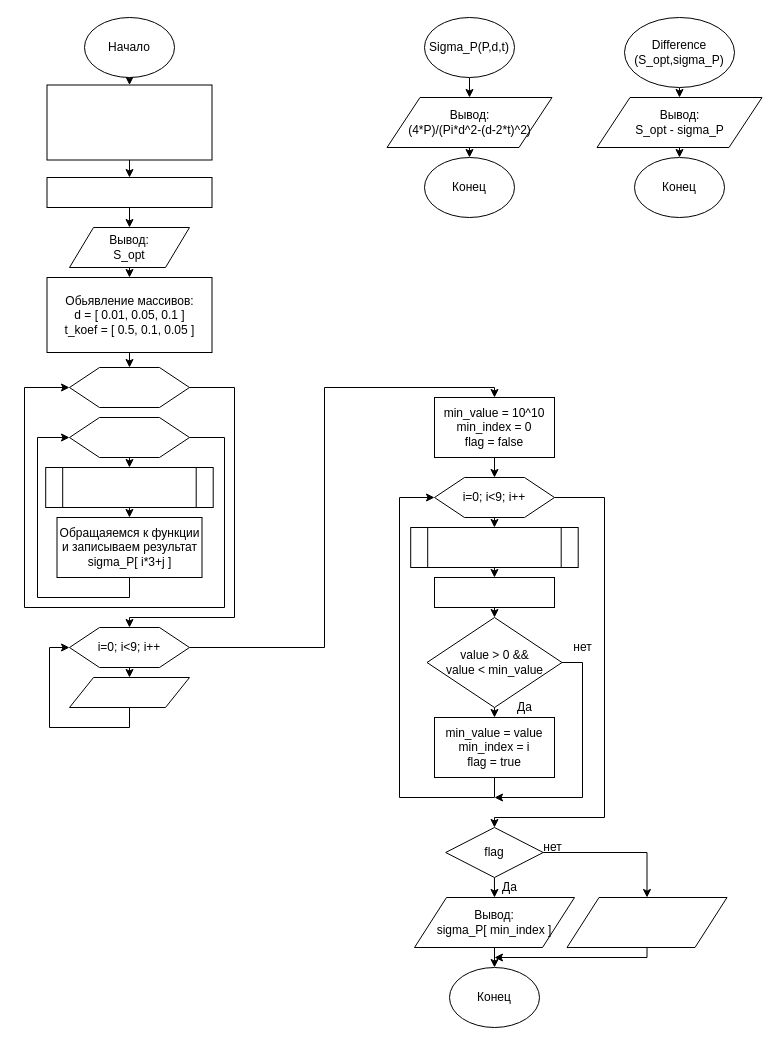
The diagram is 780 pixels wide and 1045 high, and some of its shapes have lost their labels. Here are the shapes that lost their labels. From the top down, the box of each, then its label:
(46, 84, 212, 160): Обьявление переменных: P=500 sigma_T=1900000 S_P=3
(46, 176, 212, 208): S_opt = sigma_T/S_P
(68, 366, 190, 408): i=0; i<3; i++
(68, 416, 190, 458): j=0; j<3; j++
(45, 466, 213, 508): Sigma_P (P, d[ i ], d[ i ]*t_koef[ j ])
(410, 526, 578, 568): Difference ( S_opt, sigma_P[ i ] )
(434, 576, 554, 608): value = Difference
(68, 676, 190, 708): sigma_P[ i ]
(566, 896, 727, 948): Вывод: "Подходящих записей нет"
